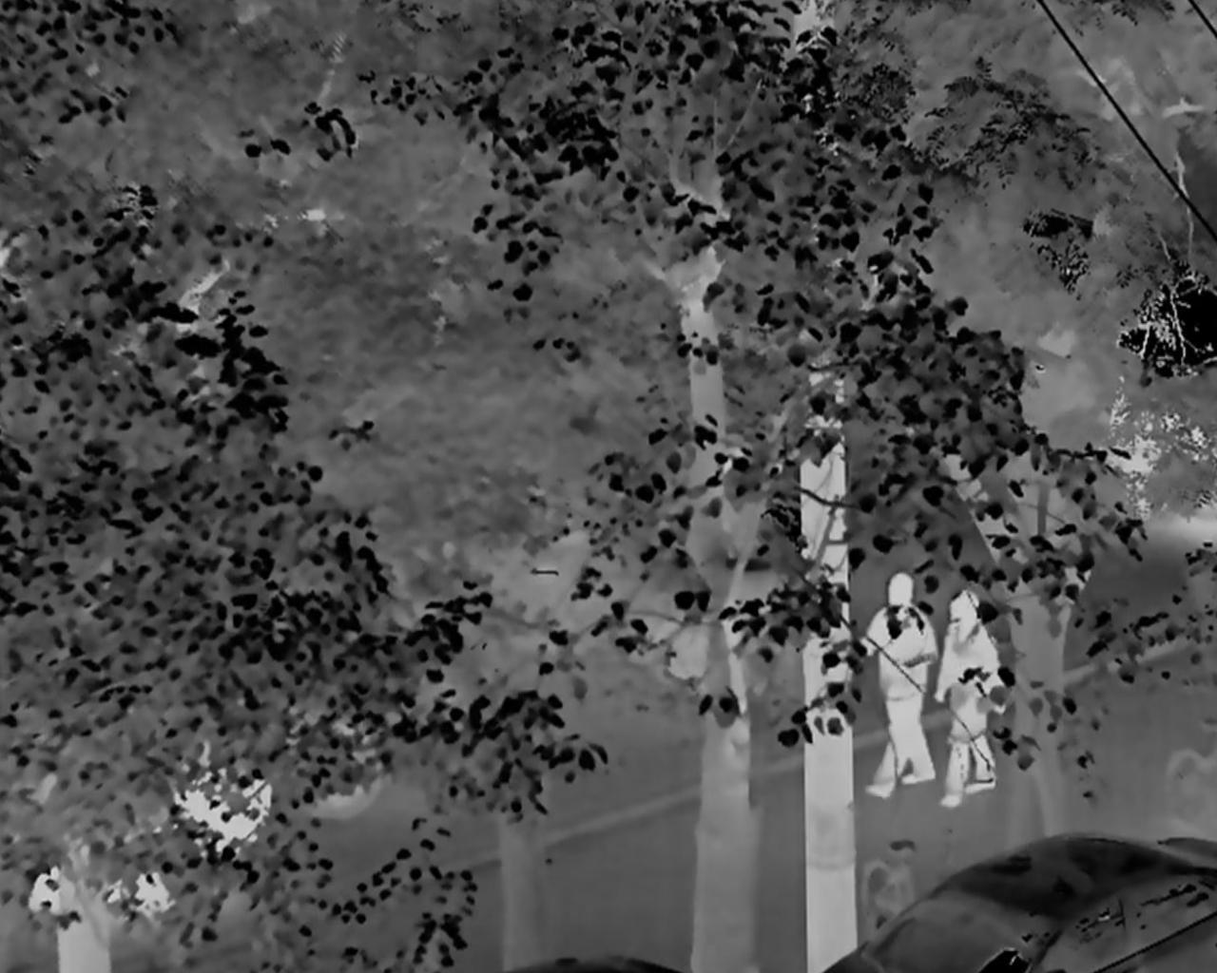person: (860, 570, 937, 800), (936, 590, 1008, 811)
